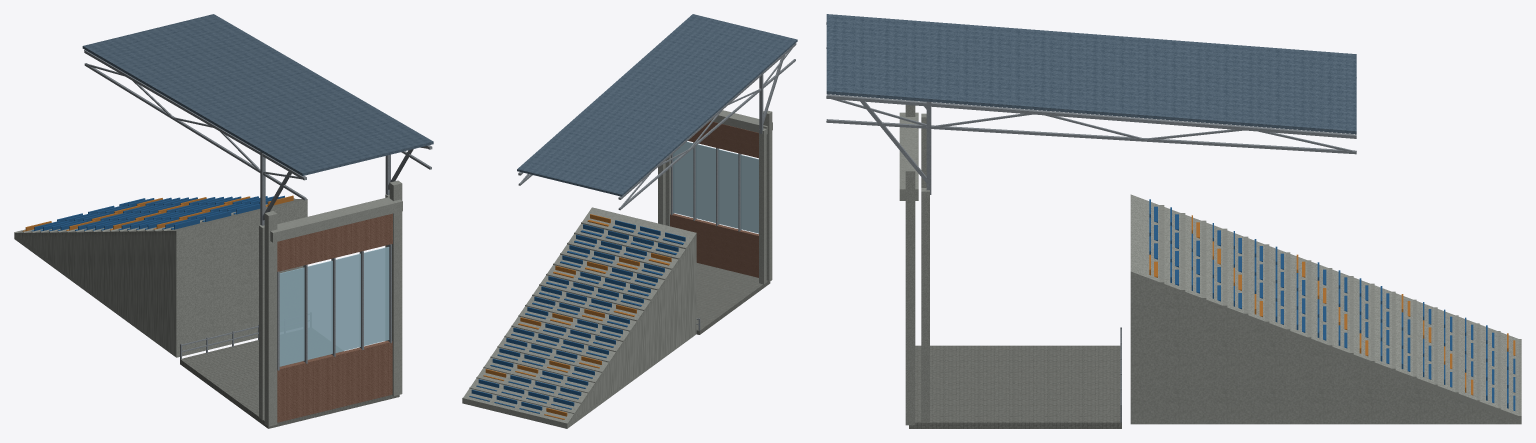
Rendered from PZ_Stadium_Straight_SeatingFacade_Bay_10p5M.glb.
3 views of the same model, side by side, from view 1: azimuth 30°, elevation 25°; view 2: azimuth 150°, elevation 25°; view 3: azimuth 270°, elevation 25° (orthographic). The views are drawn at different scales.
Visible parts, largest first — view 1: REPEATABLE_STRAIGHT_BAY__ROOF_SHEET, REPEATABLE_STRAIGHT_BAY__SUPPORT_CONCRETE, REPEATABLE_STRAIGHT_BAY__GLAZED_FACADE, REPEATABLE_STRAIGHT_BAY__FACADE_BRICK_INFILL, REPEATABLE_STRAIGHT_BAY__FACADE_PIERS, REPEATABLE_STRAIGHT_BAY__SEAT_BLUE, REPEATABLE_STRAIGHT_BAY__CONCOURSE_WALKABLE_FLOOR, REPEATABLE_STRAIGHT_BAY__FACADE_UPPER_FRIEZE, REPEATABLE_STRAIGHT_BAY__FACADE_CORNICE, REPEATABLE_STRAIGHT_BAY__ROOF_TRUSS_CHORD, REPEATABLE_STRAIGHT_BAY__GLAZING_MULLIONS, REPEATABLE_STRAIGHT_BAY__SEAT_AMBER (+4 smaller); view 2: REPEATABLE_STRAIGHT_BAY__ROOF_SHEET, REPEATABLE_STRAIGHT_BAY__SUPPORT_CONCRETE, REPEATABLE_STRAIGHT_BAY__SEAT_BLUE, REPEATABLE_STRAIGHT_BAY__GLAZED_FACADE, REPEATABLE_STRAIGHT_BAY__TERRACE_TREADS, REPEATABLE_STRAIGHT_BAY__FACADE_BRICK_INFILL, REPEATABLE_STRAIGHT_BAY__CONCOURSE_WALKABLE_FLOOR, REPEATABLE_STRAIGHT_BAY__SEAT_AMBER, REPEATABLE_STRAIGHT_BAY__CONCOURSE_COLUMNS, REPEATABLE_STRAIGHT_BAY__FACADE_PIERS, REPEATABLE_STRAIGHT_BAY__FACADE_UPPER_FRIEZE, REPEATABLE_STRAIGHT_BAY__ROOF_TRUSS_CHORD (+4 smaller); view 3: REPEATABLE_STRAIGHT_BAY__SUPPORT_CONCRETE, REPEATABLE_STRAIGHT_BAY__ROOF_SHEET, REPEATABLE_STRAIGHT_BAY__CONCOURSE_WALKABLE_FLOOR, REPEATABLE_STRAIGHT_BAY__TERRACE_TREADS, REPEATABLE_STRAIGHT_BAY__SEAT_BLUE, REPEATABLE_STRAIGHT_BAY__ROOF_TRUSS_CHORD, REPEATABLE_STRAIGHT_BAY__FACADE_PIERS, REPEATABLE_STRAIGHT_BAY__CONCOURSE_COLUMNS, REPEATABLE_STRAIGHT_BAY__SEAT_AMBER, REPEATABLE_STRAIGHT_BAY__ROOF_TRUSS_BRACES, REPEATABLE_STRAIGHT_BAY__FACADE_CORNICE, REPEATABLE_STRAIGHT_BAY__ROOF_SUPPORT_COLUMNS.
Boxes of the visible parts, bbox=[...] form: REPEATABLE_STRAIGHT_BAY__ROOF_SHEET: bbox=[82, 14, 433, 175]; REPEATABLE_STRAIGHT_BAY__SUPPORT_CONCRETE: bbox=[14, 199, 307, 357]; REPEATABLE_STRAIGHT_BAY__GLAZED_FACADE: bbox=[279, 247, 389, 366]; REPEATABLE_STRAIGHT_BAY__FACADE_BRICK_INFILL: bbox=[277, 340, 392, 422]; REPEATABLE_STRAIGHT_BAY__FACADE_PIERS: bbox=[264, 180, 402, 426]; REPEATABLE_STRAIGHT_BAY__SEAT_BLUE: bbox=[32, 195, 284, 231]; REPEATABLE_STRAIGHT_BAY__CONCOURSE_WALKABLE_FLOOR: bbox=[180, 340, 399, 428]; REPEATABLE_STRAIGHT_BAY__FACADE_UPPER_FRIEZE: bbox=[277, 213, 392, 271]; REPEATABLE_STRAIGHT_BAY__FACADE_CORNICE: bbox=[270, 197, 402, 242]; REPEATABLE_STRAIGHT_BAY__ROOF_TRUSS_CHORD: bbox=[84, 50, 432, 200]; REPEATABLE_STRAIGHT_BAY__GLAZING_MULLIONS: bbox=[277, 244, 391, 370]; REPEATABLE_STRAIGHT_BAY__SEAT_AMBER: bbox=[22, 195, 293, 231]; REPEATABLE_STRAIGHT_BAY__ROOF_SHEET: bbox=[517, 14, 797, 196]; REPEATABLE_STRAIGHT_BAY__SUPPORT_CONCRETE: bbox=[462, 207, 696, 428]; REPEATABLE_STRAIGHT_BAY__SEAT_BLUE: bbox=[469, 220, 685, 413]; REPEATABLE_STRAIGHT_BAY__GLAZED_FACADE: bbox=[673, 141, 758, 233]; REPEATABLE_STRAIGHT_BAY__TERRACE_TREADS: bbox=[462, 221, 691, 425]; REPEATABLE_STRAIGHT_BAY__FACADE_BRICK_INFILL: bbox=[670, 213, 758, 277]; REPEATABLE_STRAIGHT_BAY__CONCOURSE_WALKABLE_FLOOR: bbox=[696, 263, 770, 334]; REPEATABLE_STRAIGHT_BAY__SEAT_AMBER: bbox=[483, 214, 671, 419]; REPEATABLE_STRAIGHT_BAY__CONCOURSE_COLUMNS: bbox=[658, 128, 766, 284]; REPEATABLE_STRAIGHT_BAY__FACADE_PIERS: bbox=[665, 110, 772, 281]; REPEATABLE_STRAIGHT_BAY__FACADE_UPPER_FRIEZE: bbox=[688, 121, 758, 158]; REPEATABLE_STRAIGHT_BAY__ROOF_TRUSS_CHORD: bbox=[518, 43, 796, 210]; REPEATABLE_STRAIGHT_BAY__SUPPORT_CONCRETE: bbox=[1130, 194, 1521, 424]; REPEATABLE_STRAIGHT_BAY__ROOF_SHEET: bbox=[826, 14, 1356, 134]; REPEATABLE_STRAIGHT_BAY__CONCOURSE_WALKABLE_FLOOR: bbox=[909, 345, 1121, 428]; REPEATABLE_STRAIGHT_BAY__TERRACE_TREADS: bbox=[1144, 205, 1521, 419]; REPEATABLE_STRAIGHT_BAY__SEAT_BLUE: bbox=[1149, 199, 1515, 410]; REPEATABLE_STRAIGHT_BAY__ROOF_TRUSS_CHORD: bbox=[826, 24, 1356, 154]; REPEATABLE_STRAIGHT_BAY__FACADE_PIERS: bbox=[905, 100, 915, 425]; REPEATABLE_STRAIGHT_BAY__CONCOURSE_COLUMNS: bbox=[921, 113, 929, 422]; REPEATABLE_STRAIGHT_BAY__SEAT_AMBER: bbox=[1149, 215, 1515, 395]; REPEATABLE_STRAIGHT_BAY__ROOF_TRUSS_BRACES: bbox=[826, 22, 1356, 151]; REPEATABLE_STRAIGHT_BAY__FACADE_CORNICE: bbox=[899, 112, 918, 200]; REPEATABLE_STRAIGHT_BAY__ROOF_SUPPORT_COLUMNS: bbox=[860, 101, 931, 194].
Bounding box in the file's own units: 10.7 × 21.45 × 40.02.
8 materials, 7 textured.
